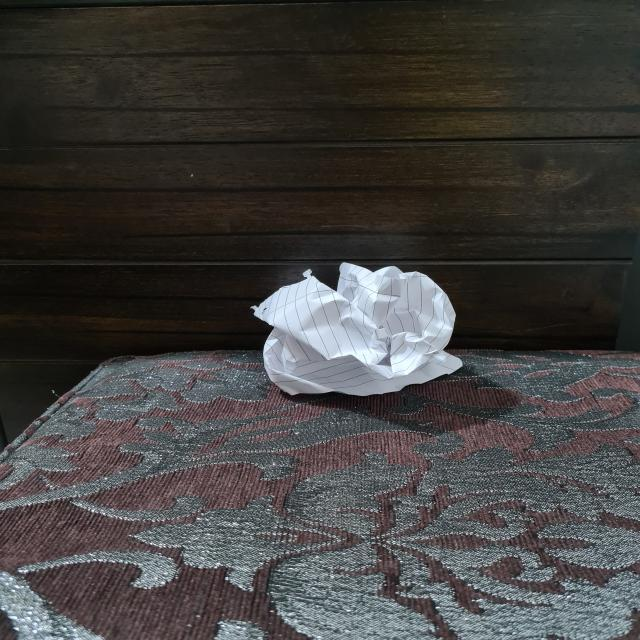Paper: (258, 263, 460, 391)
